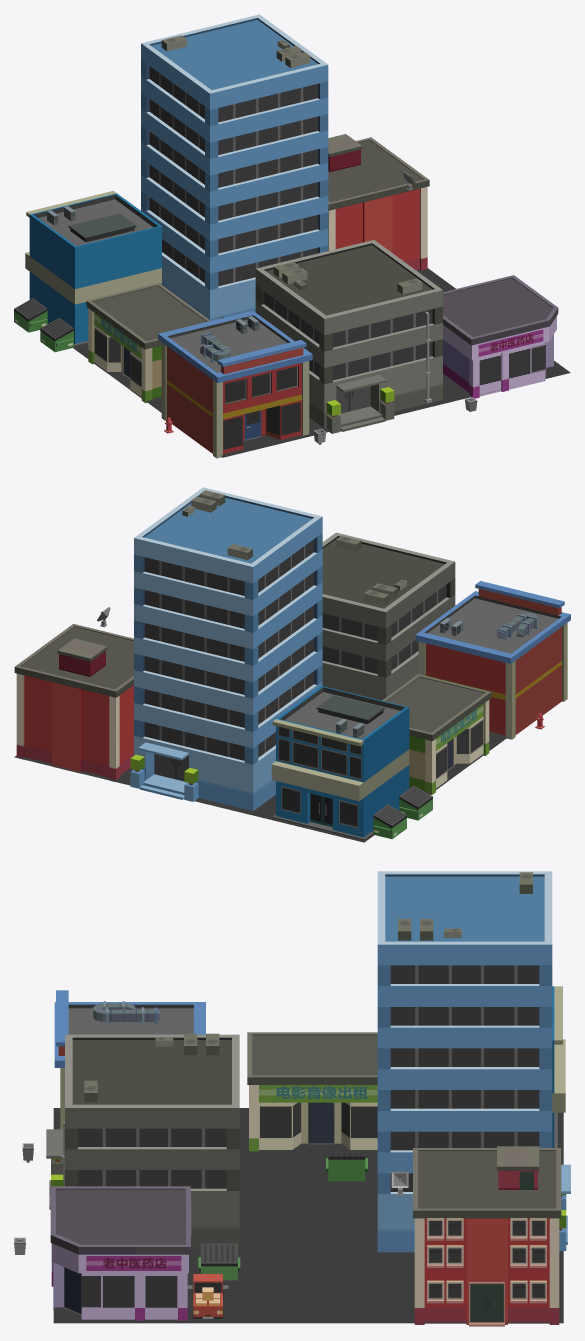
Rendered from Commercial_2_hub.FBX.
3 views of the same model, one above another, from view 1: azimuth 30°, elevation 25°; view 2: azimuth 150°, elevation 25°; view 3: azimuth 270°, elevation 25° (orthographic). The views are drawn at different scales.
Parts seen in each view (by area): view 1: Building_OfficeLarge_Blue, Building_OfficeSmall_Grey, Building_Shop_05__1_, Building_Shop_01, Building_StoreCorner_Drug__1_, Building_ApartmentSmall_Red, store_small_mesh__2_, road_square_mesh__1_, dumpster_mesh__3_, dumpster_mesh__6_; view 2: Building_OfficeLarge_Blue, Building_Shop_01, Building_OfficeSmall_Grey, Building_Shop_05__1_, Building_ApartmentSmall_Red, store_small_mesh__2_, road_square_mesh__1_, dumpster_mesh__6_, dumpster_mesh__3_; view 3: Building_OfficeLarge_Blue, Building_OfficeSmall_Grey, road_square_mesh__1_, Building_ApartmentSmall_Red, Building_StoreCorner_Drug__1_, store_small_mesh__2_, Building_Shop_05__1_, Building_Shop_01, ute_seperate_red, dumpster_mesh__5_, dumpster_mesh__4_.
Part boxes in pixels (box(x1,y1,x2,y2)): Building_OfficeLarge_Blue: box(141, 14, 328, 320); Building_OfficeSmall_Grey: box(255, 240, 442, 433); Building_Shop_05__1_: box(158, 311, 312, 458); Building_Shop_01: box(25, 190, 161, 346); Building_StoreCorner_Drug__1_: box(443, 275, 558, 398); Building_ApartmentSmall_Red: box(328, 134, 429, 270); store_small_mesh__2_: box(86, 283, 210, 403); road_square_mesh__1_: box(73, 268, 570, 457); dumpster_mesh__3_: box(40, 317, 73, 352); dumpster_mesh__6_: box(14, 298, 47, 332); Building_OfficeLarge_Blue: box(130, 487, 322, 810); Building_Shop_01: box(271, 686, 409, 840); Building_OfficeSmall_Grey: box(322, 532, 455, 700); Building_Shop_05__1_: box(415, 581, 570, 739); Building_ApartmentSmall_Red: box(14, 624, 133, 781); store_small_mesh__2_: box(382, 674, 491, 794); road_square_mesh__1_: box(14, 731, 507, 842); dumpster_mesh__6_: box(373, 804, 406, 839); dumpster_mesh__3_: box(399, 786, 432, 820); Building_OfficeLarge_Blue: box(377, 871, 570, 1252); Building_OfficeSmall_Grey: box(46, 1033, 239, 1246); road_square_mesh__1_: box(53, 1108, 563, 1323); Building_ApartmentSmall_Red: box(413, 1146, 561, 1326); Building_StoreCorner_Drug__1_: box(50, 1186, 191, 1320); store_small_mesh__2_: box(247, 1032, 377, 1151); Building_Shop_05__1_: box(54, 990, 205, 1129); Building_Shop_01: box(552, 986, 565, 1147); ute_seperate_red: box(188, 1274, 228, 1318); dumpster_mesh__5_: box(198, 1243, 240, 1280); dumpster_mesh__4_: box(326, 1152, 367, 1181).
Size of the model in its own units: 41855 by 27185 by 43263.
10 materials, 10 textured.
